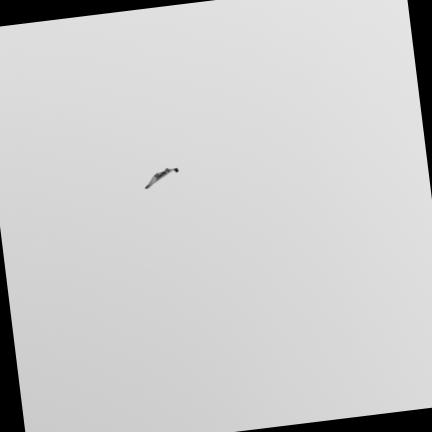Shahed: (144, 166, 178, 188)
